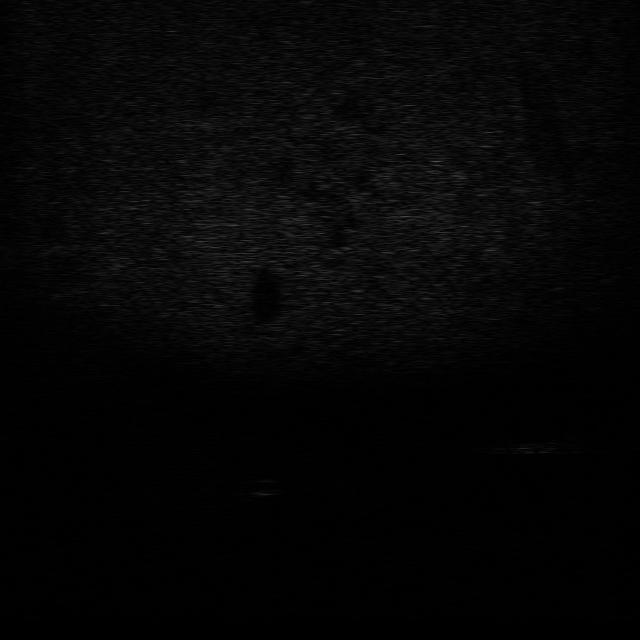ball: (246, 475, 284, 499)
human body: (477, 429, 585, 456)
